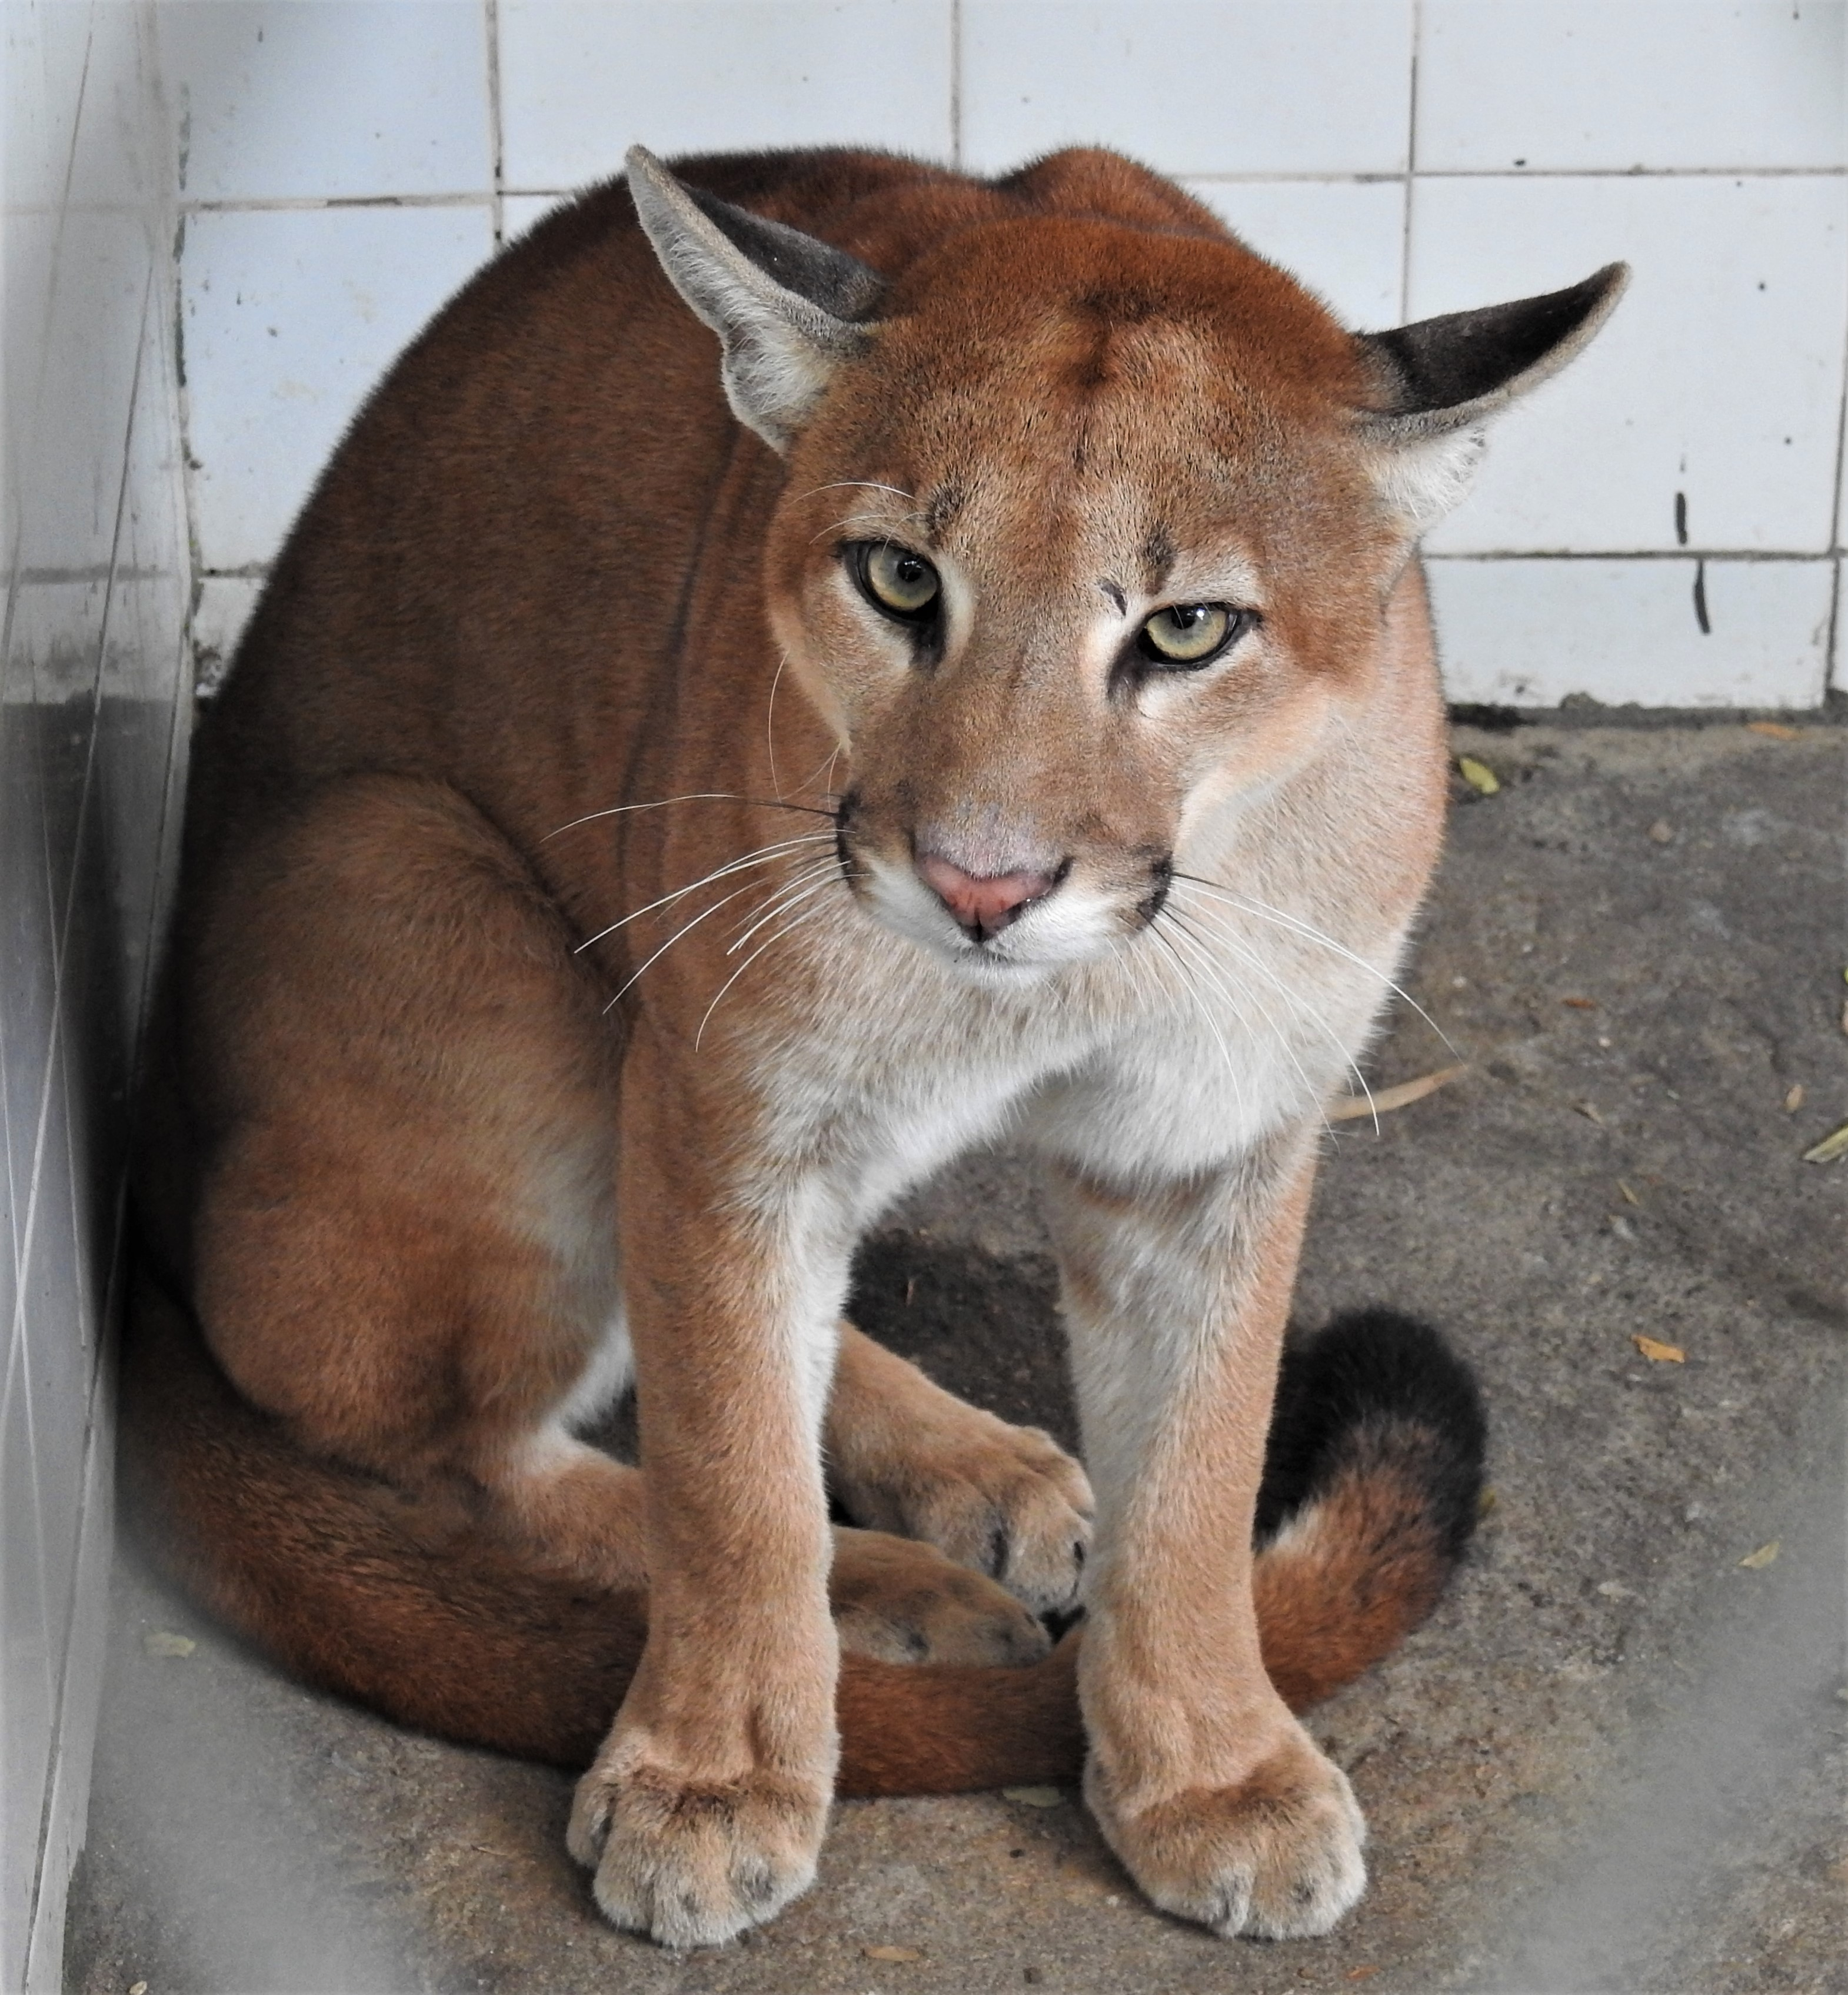OncaParda: (205, 120, 1640, 1965)
